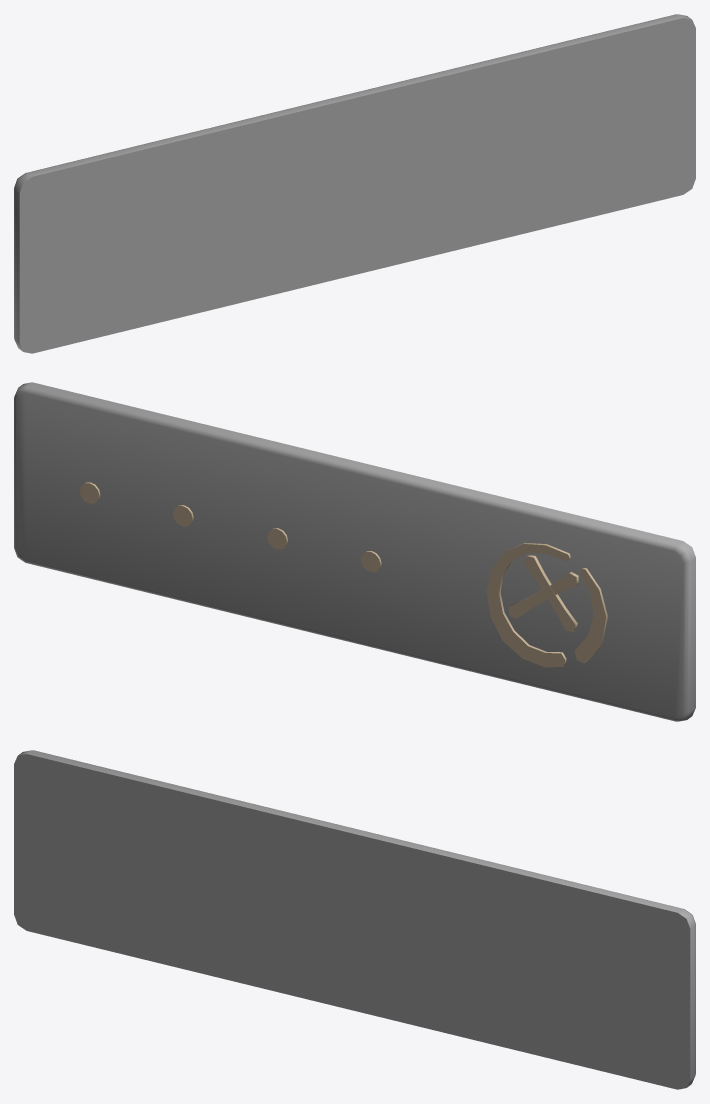
File: G_Brand_001_S1.fbx
3 views of the same model, one above another, from view 1: azimuth 30°, elevation 25°; view 2: azimuth 150°, elevation 25°; view 3: azimuth 330°, elevation 25° (orthographic).
Visible parts, largest first — view 1: S_M_Ornament_Brand001_4x1x1; view 2: S_M_Ornament_Brand001_4x1x1; view 3: S_M_Ornament_Brand001_4x1x1.
Part boxes in pixels (x1=…): S_M_Ornament_Brand001_4x1x1: x1=14, y1=14, x2=695, y2=353; S_M_Ornament_Brand001_4x1x1: x1=14, y1=382, x2=695, y2=721; S_M_Ornament_Brand001_4x1x1: x1=14, y1=750, x2=695, y2=1089.
Bounding box in the file's own units: 400 × 100 × 10.28.
